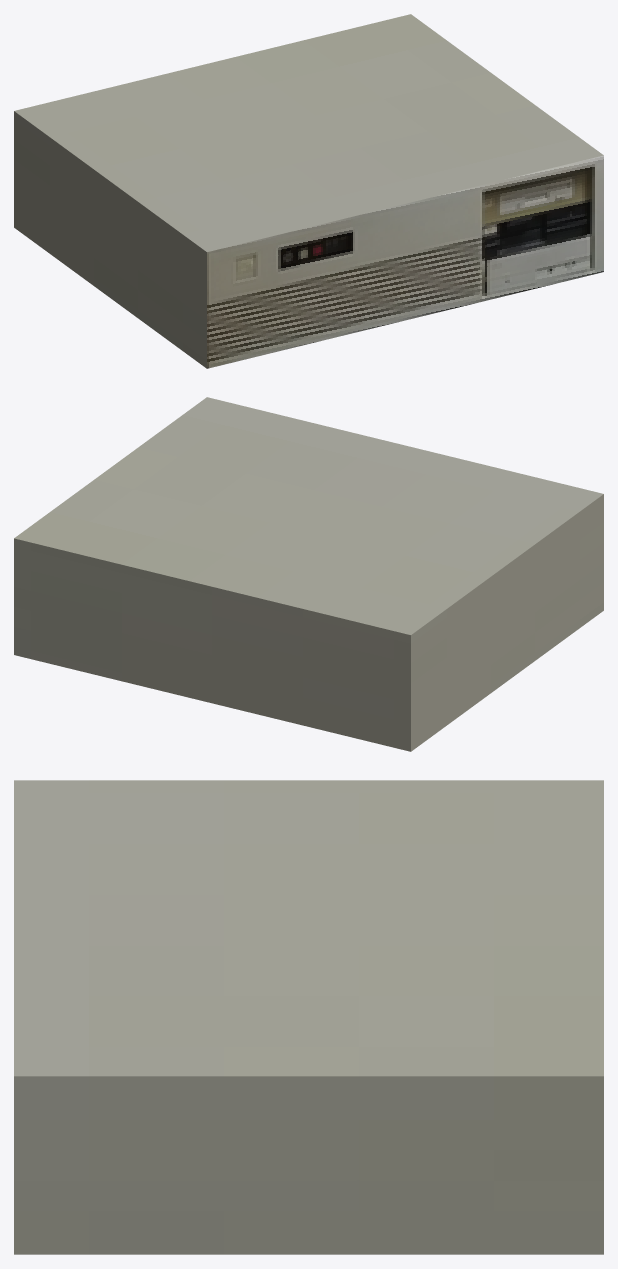
File: case.glb
3 renders of one model, top to bottom at view 1: azimuth 30°, elevation 25°; view 2: azimuth 150°, elevation 25°; view 3: azimuth 270°, elevation 25°, orthographic. The views are drawn at different scales.
Parts seen in each view (by area): view 1: case; view 2: case; view 3: case.
Part boxes in pixels (bbox=[...]): case: bbox=[14, 14, 603, 368]; case: bbox=[14, 397, 603, 751]; case: bbox=[14, 780, 603, 1254].
Size of the model in its own units: 0.8146 by 0.2287 by 0.6861.
Materials: 1 (1 with a texture image).
